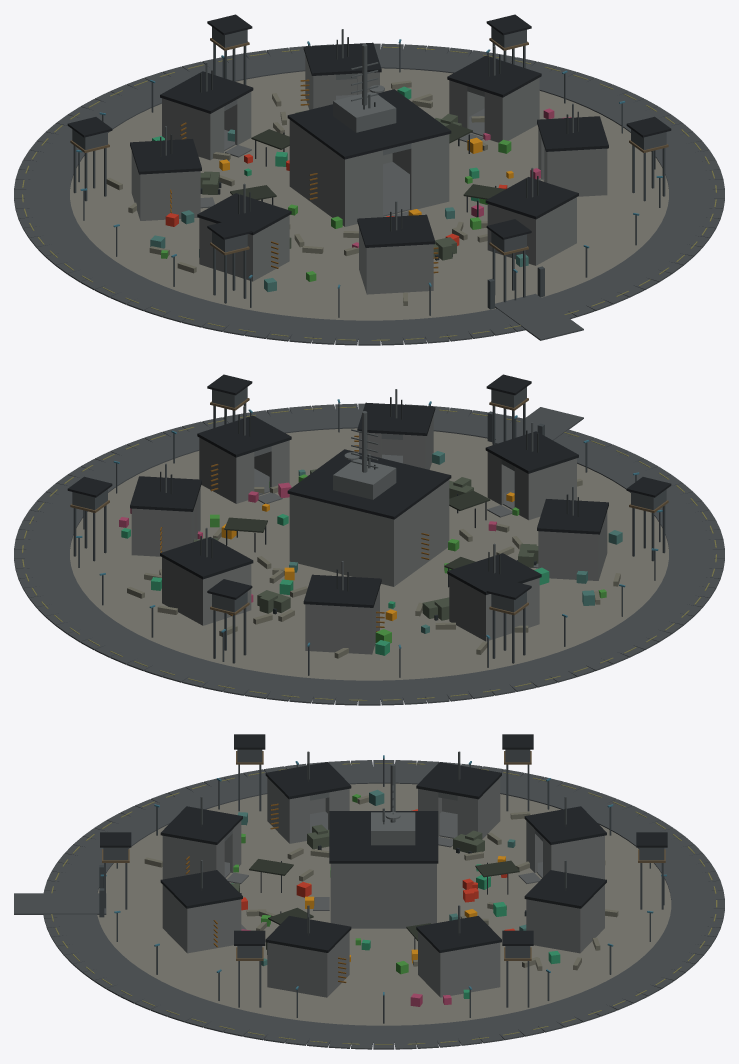
Rendered from Ruins_v16_supplied.glb.
The picture shows the model from 3 angles, top to bottom: view 1: azimuth 30°, elevation 25°; view 2: azimuth 150°, elevation 25°; view 3: azimuth 270°, elevation 25°; orthographic projection. The views are drawn at different scales.
Parts seen in each view (by area): view 1: Compound_Pad, HQ_Roof, HQ_Side-1, Bunker5_Rear, HQ_Front1, Bunker3_Side-1, HQ_Front-1, Bunker7_Side1, MainEntryRoad, Bunker0_Roof, Bunker2_Roof, Bunker6_Roof (+87 smaller); view 2: Compound_Pad, HQ_Rear, HQ_Roof, HQ_Side-1, Bunker2_Rear, Bunker4_Side1, Bunker0_Side-1, Bunker7_Roof, Bunker1_Roof, Bunker5_Roof, Bunker2_Roof, Bunker0_Roof (+89 smaller); view 3: Compound_Pad, HQ_Side1, HQ_Roof, Bunker7_Rear, Bunker0_Rear, Bunker1_Side1, Bunker6_Side-1, Bunker7_Roof, Bunker4_Roof, Bunker3_Roof, Bunker0_Roof, Bunker6_Roof (+62 smaller).
Boxes of the visible parts, x1,y1,x2,y2 form: Compound_Pad: (70,68,668,320); HQ_Roof: (287,89,451,159); HQ_Side-1: (289,120,347,226); Bunker5_Rear: (366,244,433,294); HQ_Front1: (410,134,449,210); Bunker3_Side-1: (140,171,200,220); HQ_Front-1: (343,150,382,226); Bunker7_Side1: (547,148,606,196); MainEntryRoad: (495,293,583,340); Bunker0_Roof: (447,55,541,97); Bunker2_Roof: (160,71,253,113); Bunker6_Roof: (485,177,578,219); Compound_Pad: (70,428,668,680); HQ_Rear: (289,494,395,586); HQ_Roof: (287,449,451,519); HQ_Side-1: (391,480,449,586); Bunker2_Rear: (305,604,372,654); Bunker4_Side1: (538,531,598,580); Bunker0_Side-1: (131,508,191,556); Bunker7_Roof: (197,415,291,457); Bunker1_Roof: (160,537,253,579); Bunker5_Roof: (485,431,578,473); Bunker2_Roof: (303,574,381,607); Bunker0_Roof: (130,476,201,511); Compound_Pad: (97,783,671,1025); HQ_Side1: (330,863,436,928); HQ_Roof: (329,811,438,863); Bunker7_Rear: (267,942,328,997); Bunker0_Rear: (439,942,500,997); Bunker1_Side1: (526,899,581,952); Bunker6_Side-1: (186,899,241,952); Bunker7_Roof: (265,916,351,952); Bunker4_Roof: (265,762,351,799); Bunker3_Roof: (416,762,501,799); Bunker0_Roof: (416,916,501,952); Bunker6_Roof: (160,870,242,908).
Size of the model in its own units: 73.8 by 17.04 by 76.9.
